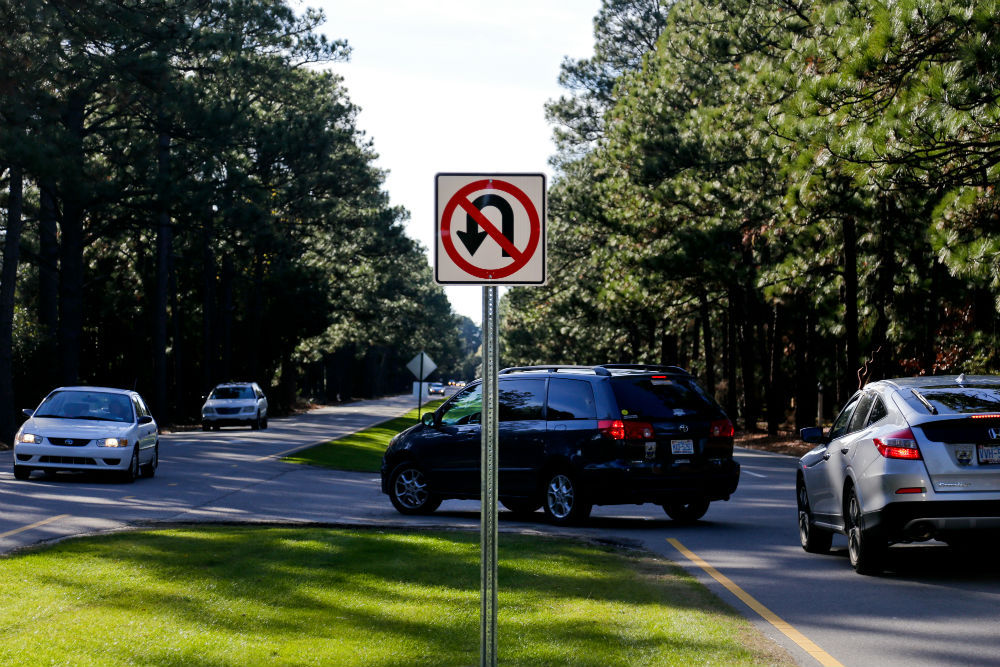No_u_turn: (442, 181, 541, 280)
